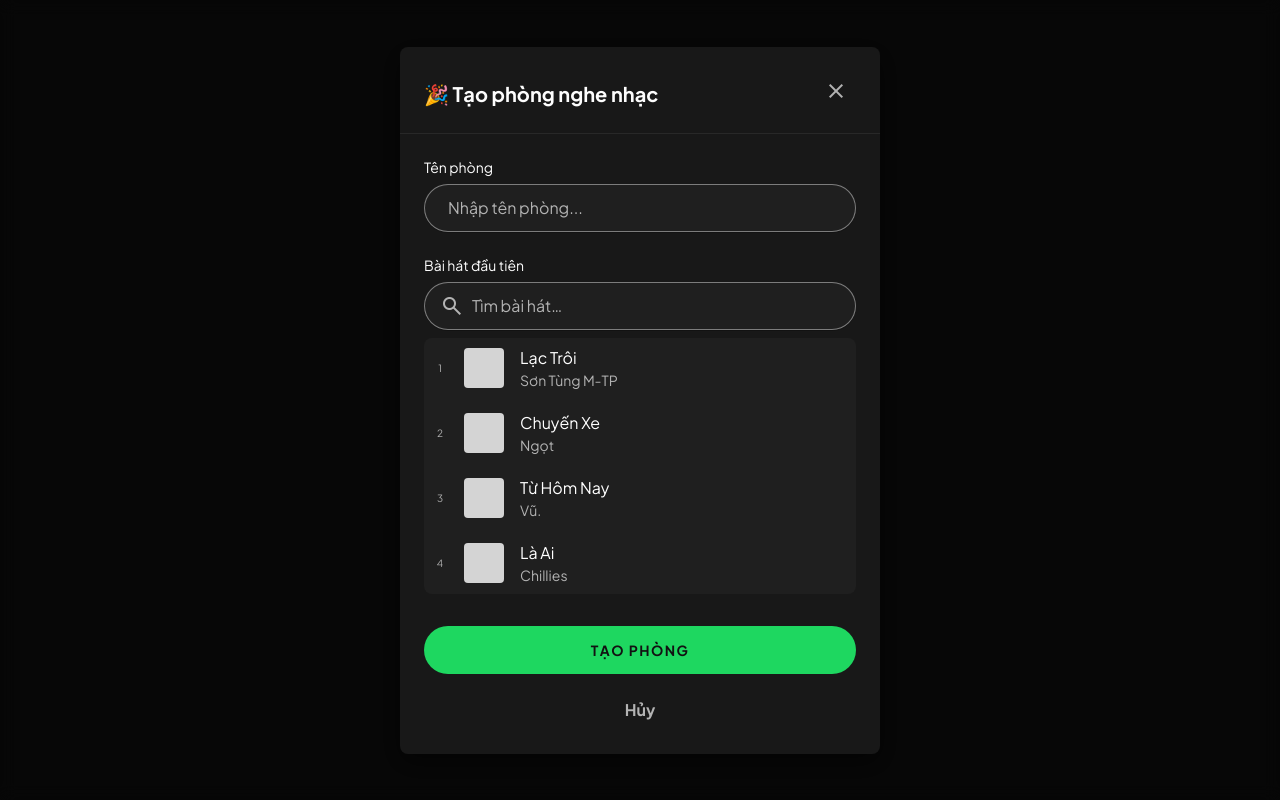
CreateRoomModal › Song search › loads next page when sentinel intersects
This screenshot has width=1280, height=800.
Expected: the text "Lạc Trôi" is shown, top-left (520, 346), bottom-right (577, 368)
Type "Bài" into the field labelled "Tìm bài hát…". click: (640, 306)
box: top-left (424, 282), bottom-right (856, 330)
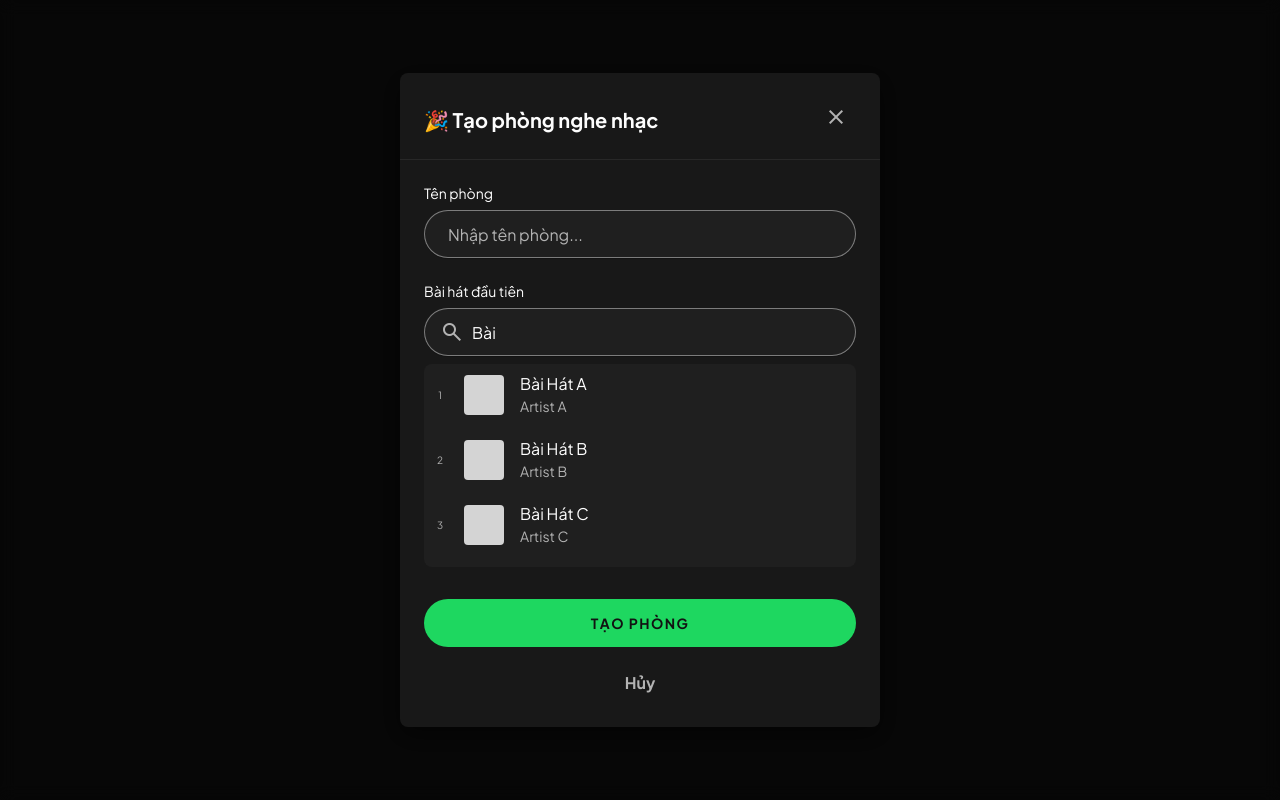
Expected: the text "Bài Hát A" is shown, top-left (520, 373), bottom-right (587, 394)
Expected: the text "Bài Hát C" is shown, top-left (520, 503), bottom-right (589, 524)
